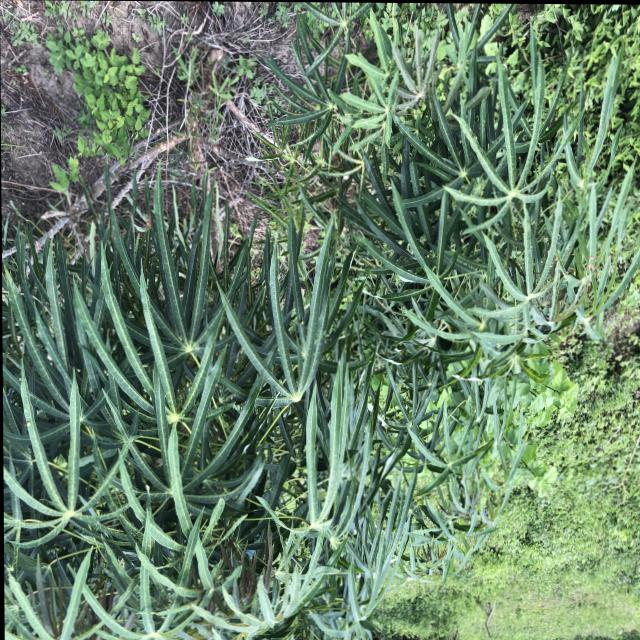Maleza: (538, 372, 640, 640), (42, 36, 164, 157), (399, 574, 556, 637), (494, 499, 569, 630)
Mosca: (177, 378, 198, 400), (68, 359, 88, 378), (358, 488, 374, 505), (543, 119, 557, 136), (395, 237, 409, 252)
